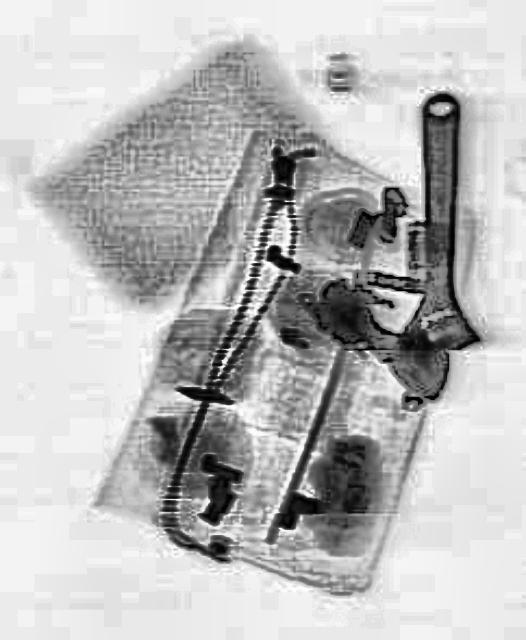Wrench: (386, 88, 484, 398)
